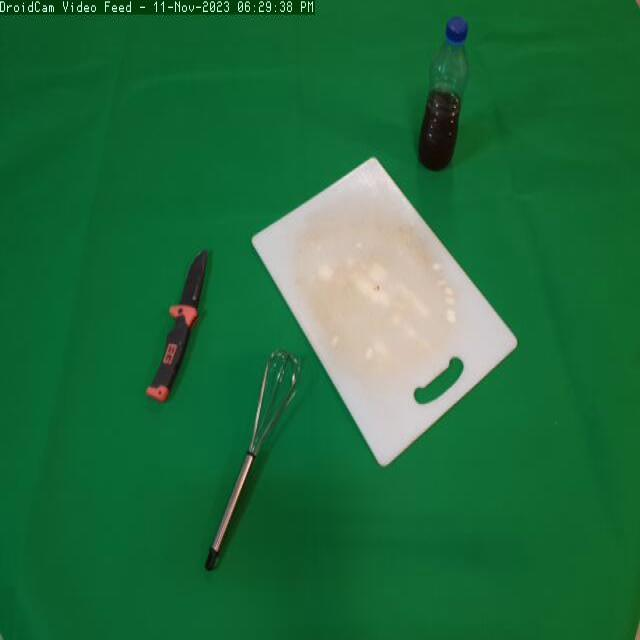cutting board: (252, 155, 532, 470)
fullbottle: (412, 11, 477, 190)
knife: (143, 238, 223, 418)
whisk: (198, 345, 312, 584)
